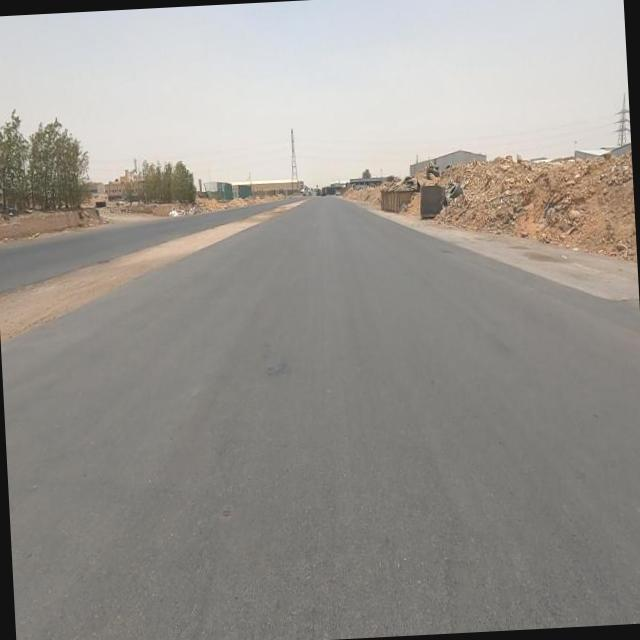debris: (428, 144, 486, 228), (406, 153, 453, 244), (153, 196, 195, 233), (174, 194, 218, 224)
